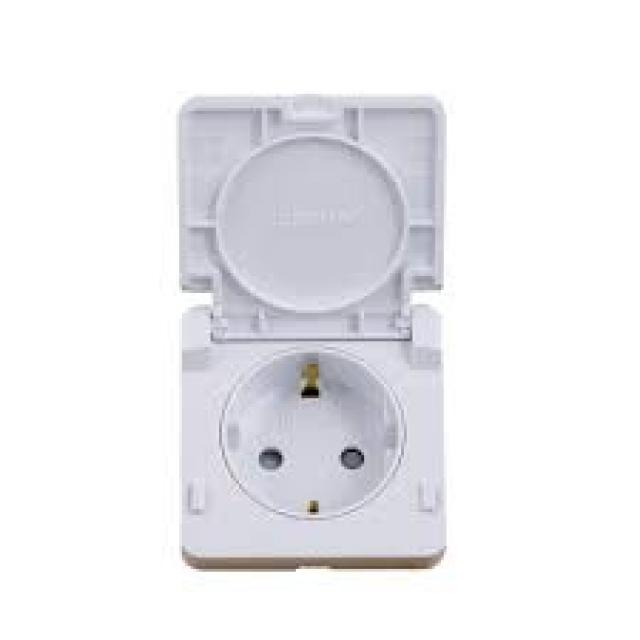typeb: (151, 20, 513, 622)
